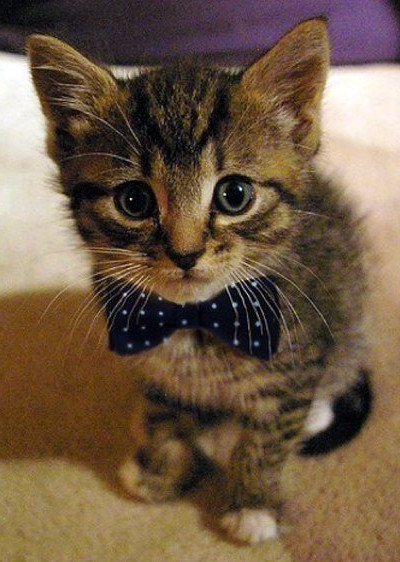cat: (0, 0, 400, 562)
